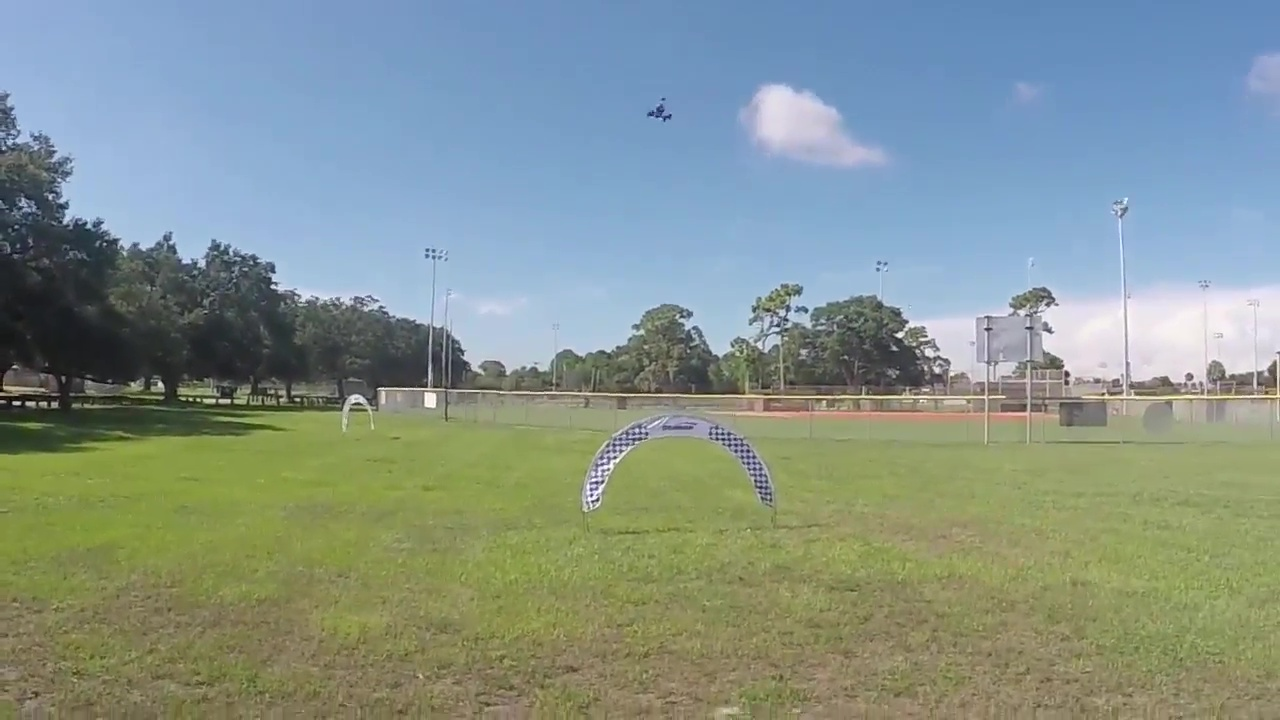gate: (578, 414, 776, 518)
